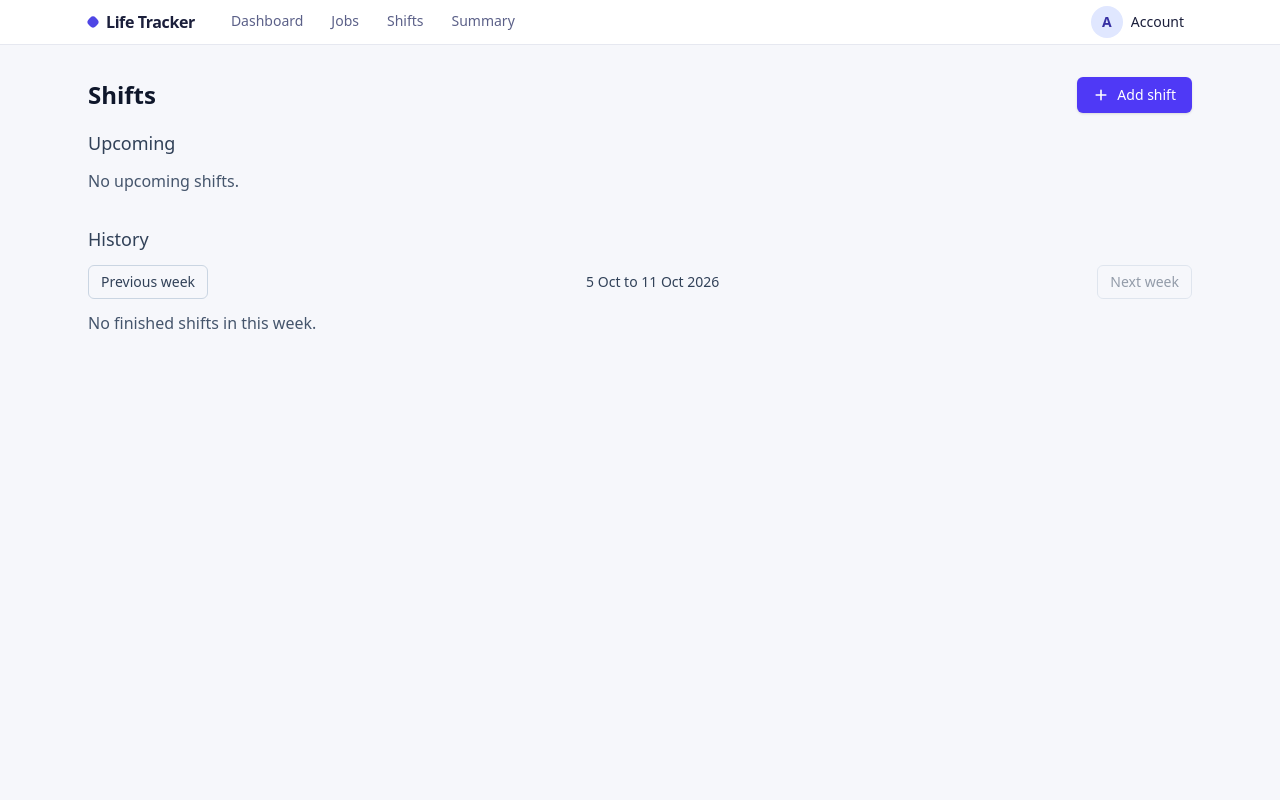
Test: ShiftsPage › explains that a job is needed when there are none
Expected: the text "No upcoming shifts." is shown, [88, 170, 239, 192]
Click the button "Add shift" at [1135, 95], box [1077, 77, 1192, 113]
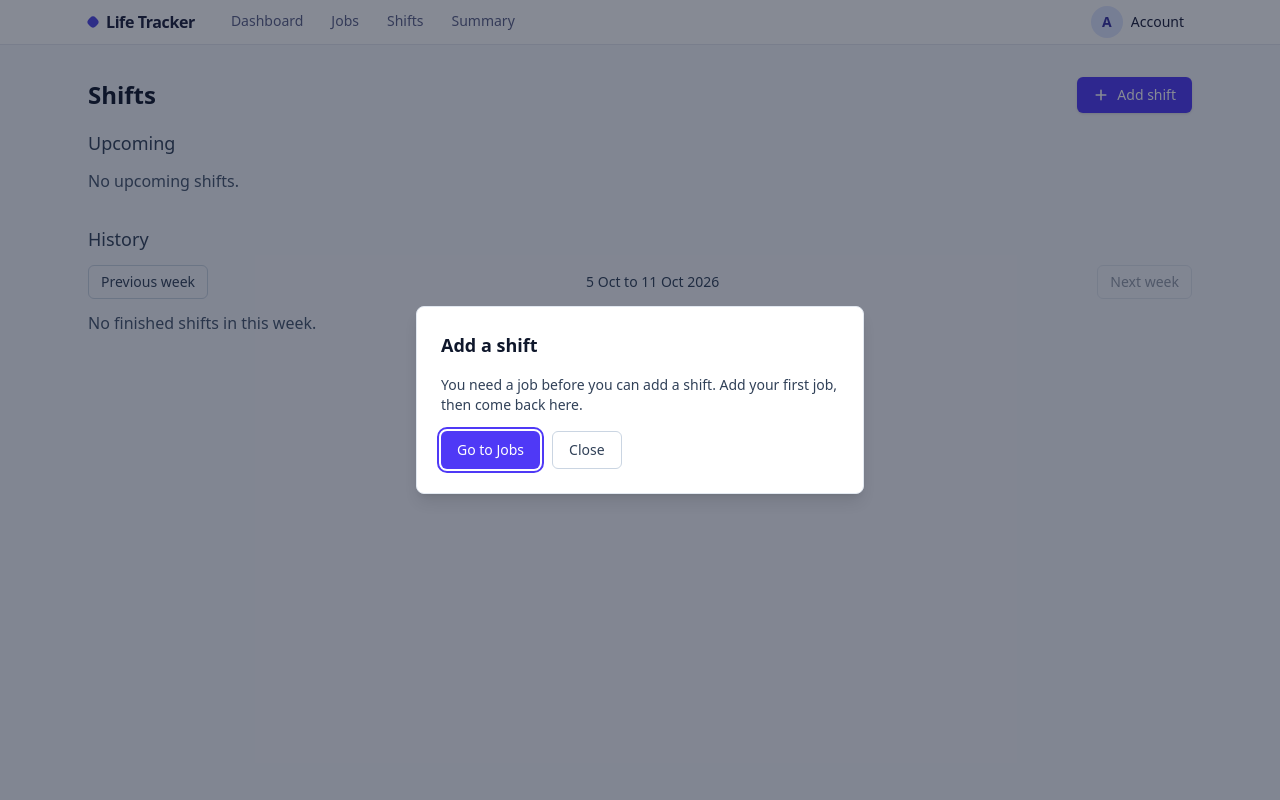
Expected: the text "You need a job before you can add a shift" is shown, [441, 375, 837, 414]
